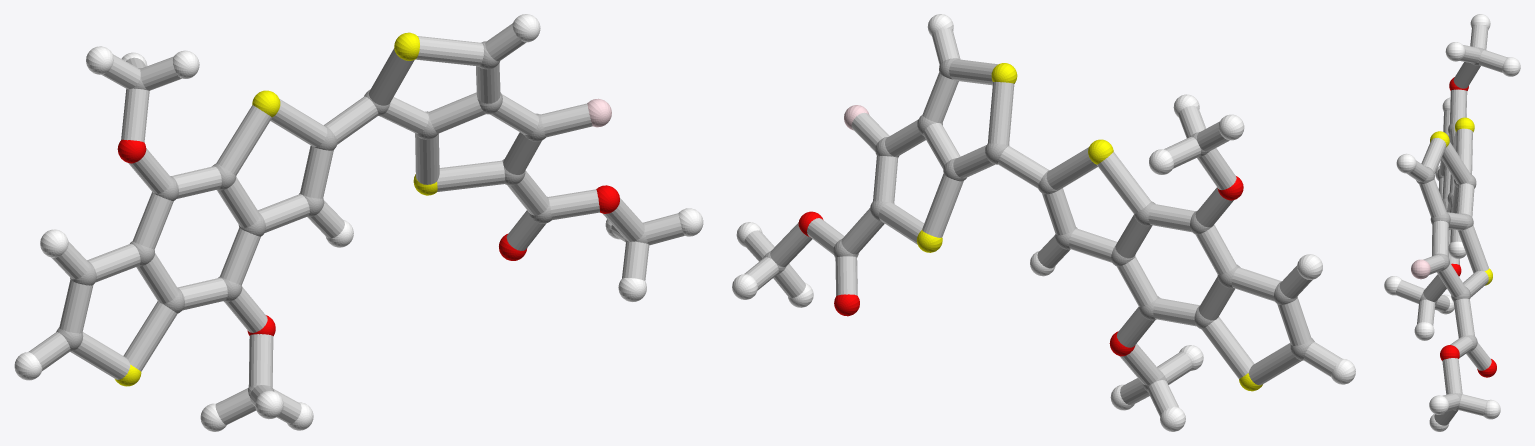
The model's file is Dimethoxy_Benzodithiophene_Phi_30_Theta_200_Methylcarbonyl_3_Fluoro_Thienothiophene.glb.
3 renders of one model, left to right at view 1: azimuth 30°, elevation 25°; view 2: azimuth 150°, elevation 25°; view 3: azimuth 270°, elevation 25°, orthographic. The views are drawn at different scales.
Parts seen in each view (by area): view 1: grp15205, grp8689, grp1, grp13395, grp7241; view 2: grp15205, grp8689, grp1, grp7241, grp13395; view 3: grp15205, grp8689, grp1, grp13395, grp7241, grp14843.
Boxes of the visible parts, box(x1,y1,x2,y2) form: grp15205: box(28, 23, 684, 424); grp8689: box(14, 14, 703, 431); grp1: box(56, 41, 648, 396); grp13395: box(117, 139, 619, 336); grp7241: box(115, 32, 437, 386); grp15205: box(744, 28, 1341, 416); grp8689: box(732, 14, 1355, 431); grp1: box(763, 58, 1314, 391); grp7241: box(916, 63, 1262, 391); grp13395: box(798, 176, 1243, 356); grp15205: box(1395, 24, 1507, 425); grp8689: box(1384, 14, 1520, 431); grp1: box(1416, 47, 1484, 410); grp13395: box(1440, 77, 1496, 377); grp7241: box(1430, 117, 1492, 285); grp14843: box(1411, 259, 1430, 279).
Size of the model in its own units: 16.49 by 9.05 by 4.12.
